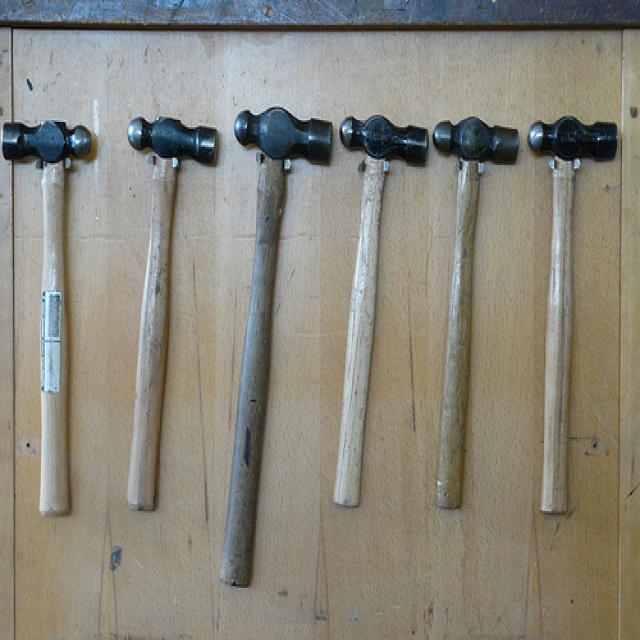hammer: (218, 101, 338, 593), (522, 106, 630, 525), (119, 106, 226, 521), (0, 109, 100, 524), (332, 106, 434, 506), (431, 105, 528, 516)
